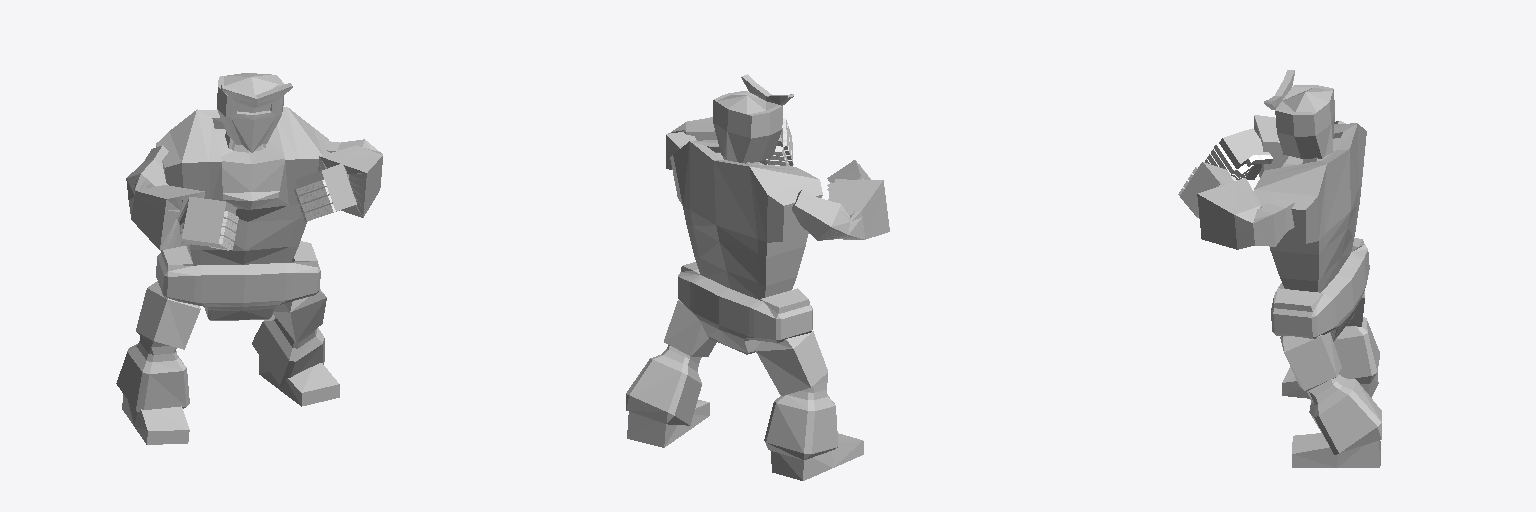
3 views of the same model, side by side, from view 1: azimuth 30°, elevation 25°; view 2: azimuth 150°, elevation 25°; view 3: azimuth 270°, elevation 25° (orthographic).
Parts seen in each view (by area): view 1: Cube; view 2: Cube; view 3: Cube.
Boxes of the visible parts, x1,y1,x2,y2 form: Cube: [116, 73, 382, 444]; Cube: [626, 74, 889, 480]; Cube: [1178, 70, 1381, 467].
Bounding box in the file's own units: 0.9373 × 1.39 × 0.7463.
Materials: 4 (1 with a texture image).